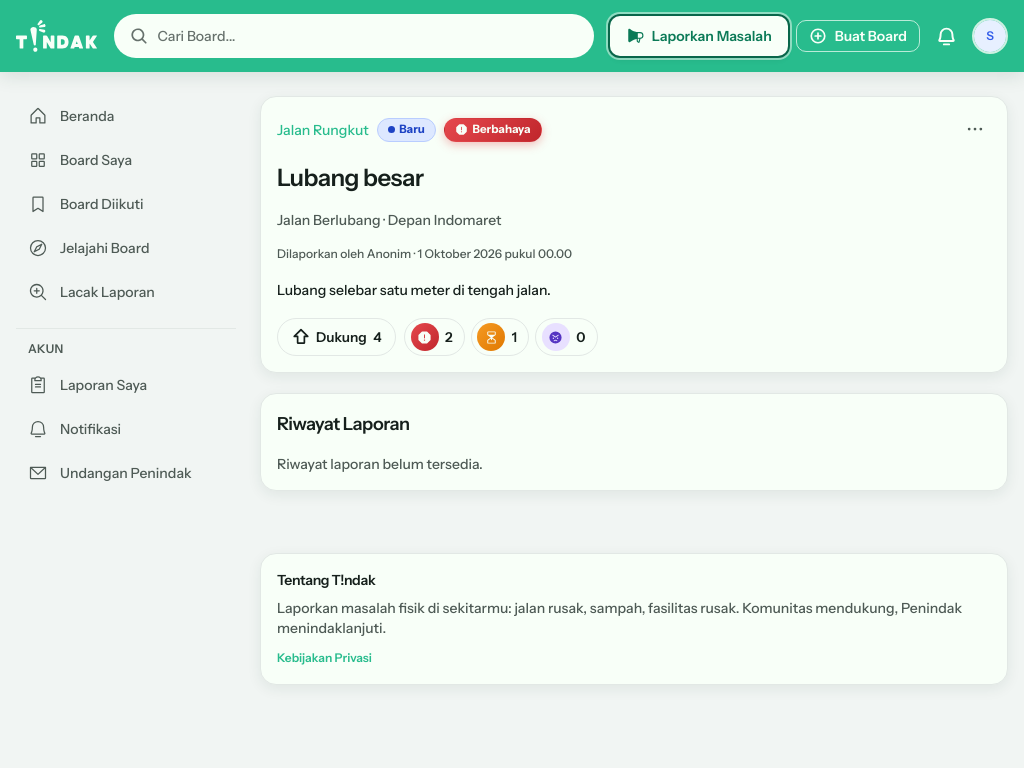
Scenario: EngagementBar › mengembalikan jumlah dan menampilkan pesan jika server menolak
Click the button with aria-label "Dukung," at (337, 337), box [277,318,396,356]
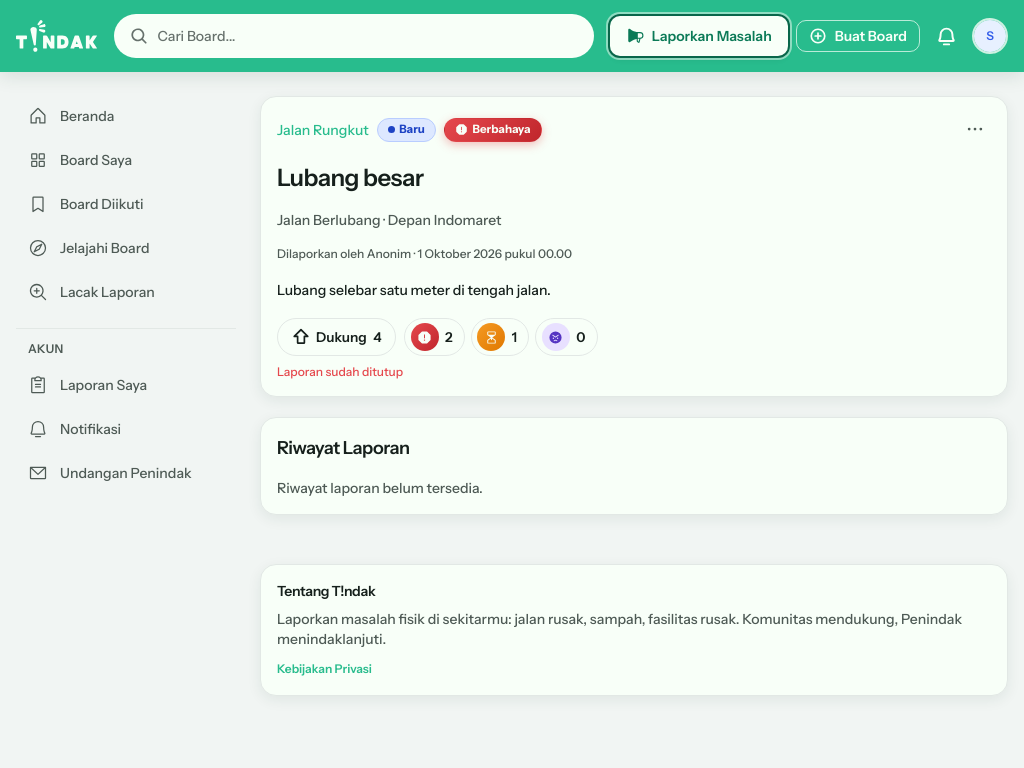
Now the message reads "Laporan sudah ditutup", box [277,364,403,379]
